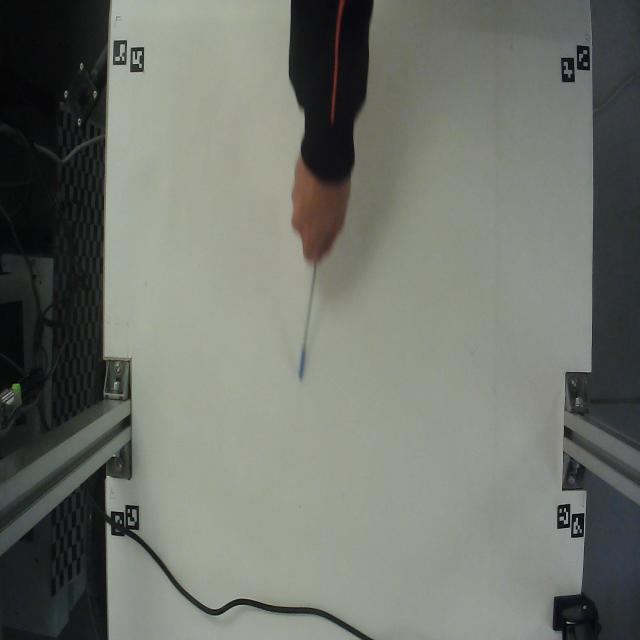NoPres: (287, 251, 327, 399)
